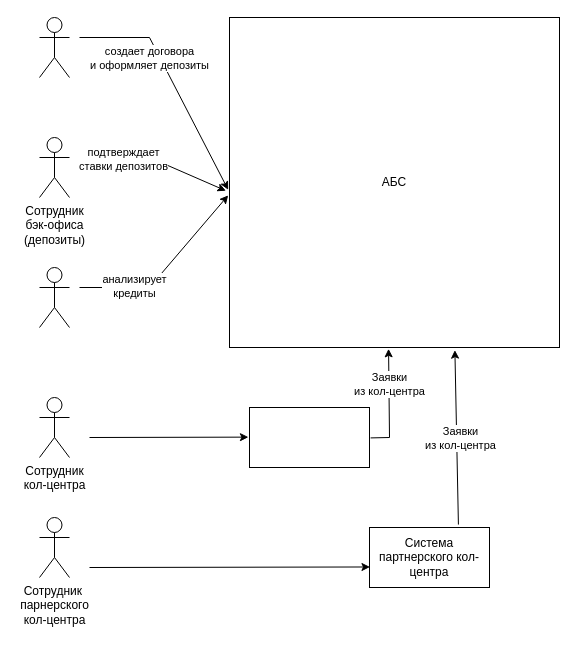
This 577x645 diagram has some shape labels left out. The shapes that lost their labels are listed below. From the top down, each one's centre as x and y in pixels, then its label:
At point (54, 47): "Сотрудник фронт-офиса".
At point (54, 297): "Сотрудник бэк-офиса (кредиты)".
At point (309, 437): "Система кол-центра".
